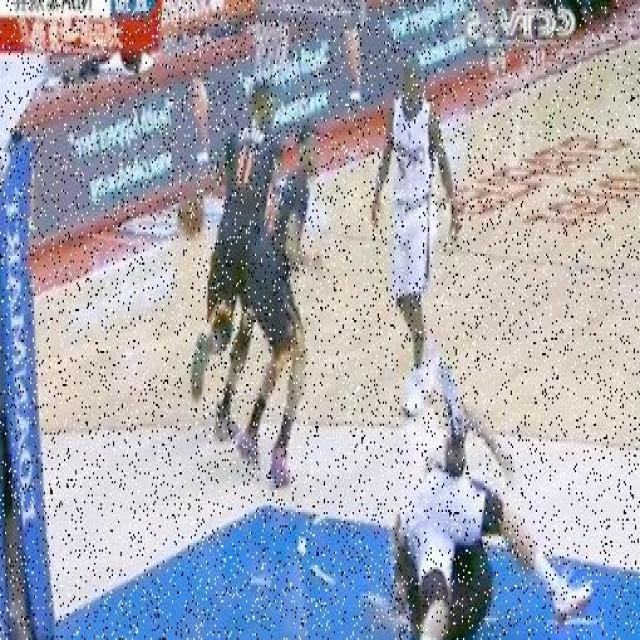fall: (384, 384, 546, 638)
